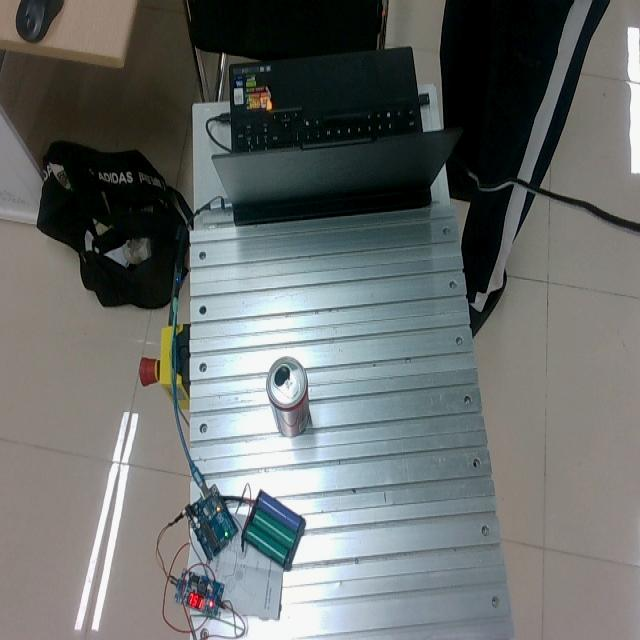coca: (265, 355, 310, 436)
